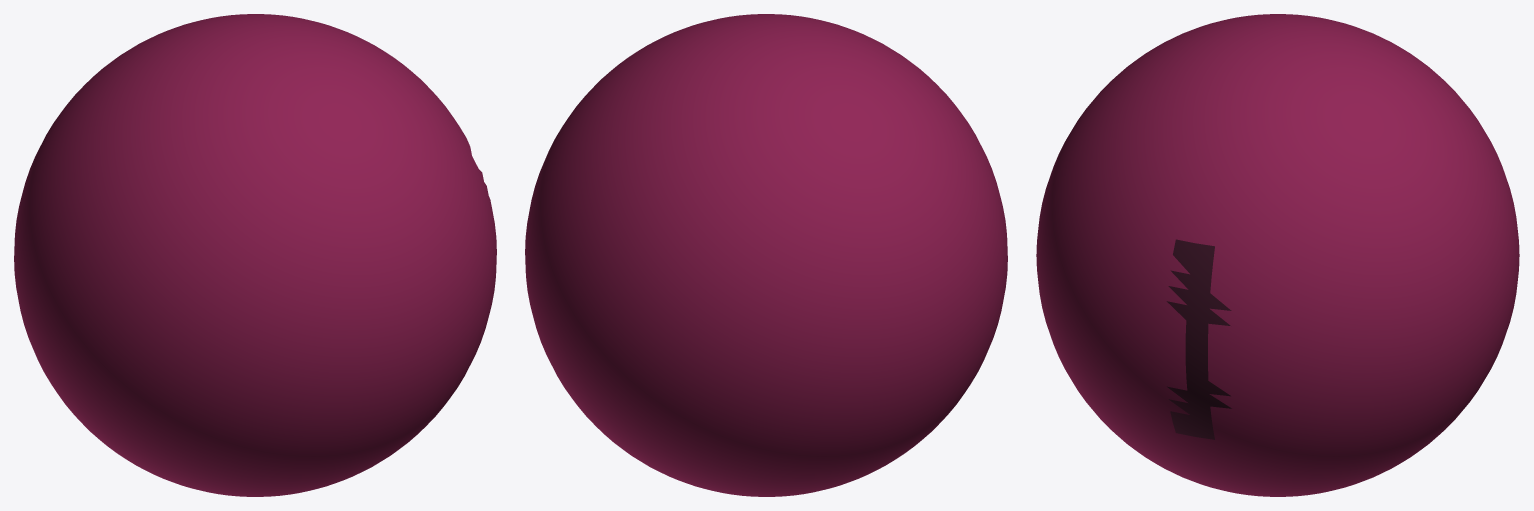
File: ai-core.glb
3 renders of one model, left to right at view 1: azimuth 30°, elevation 25°; view 2: azimuth 150°, elevation 25°; view 3: azimuth 270°, elevation 25°, orthographic.
Visible parts, largest first — view 1: Shell; view 2: Shell; view 3: Shell, InnerShell.
Part boxes in pixels (x1,y1,x2,y2): Shell: (14,14,496,496); Shell: (525,14,1007,496); Shell: (1036,14,1519,496); InnerShell: (1166,239,1231,439).
Size of the model in its own units: 2.3 by 2.3 by 2.3.
